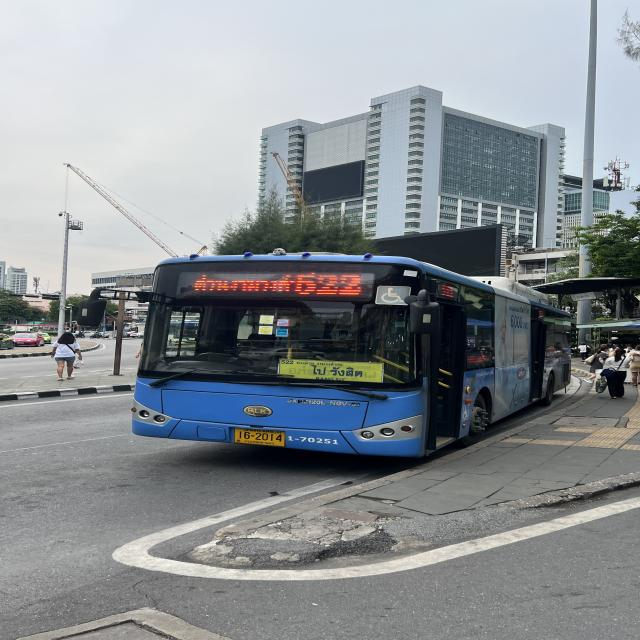BMTA-bus: (130, 254, 569, 461)
Bus Line Number: (293, 269, 373, 296)
Bus Side Number: (285, 433, 340, 447)
Destination Sign: (276, 357, 386, 384)
